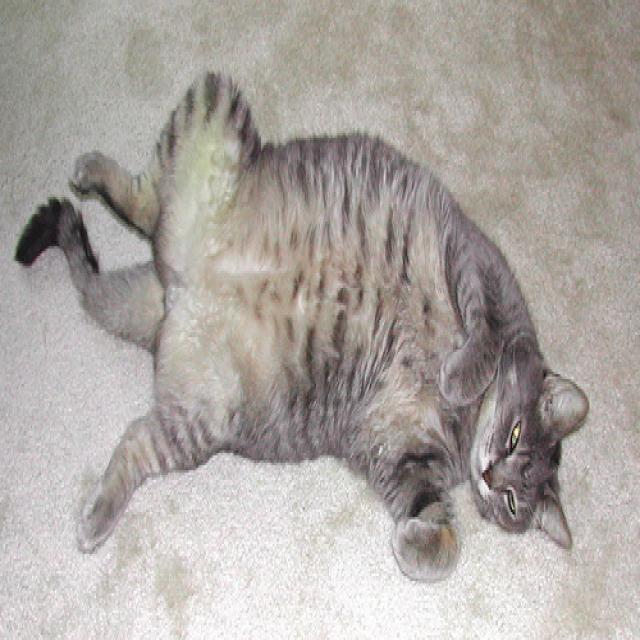cat: (14, 67, 592, 587)
